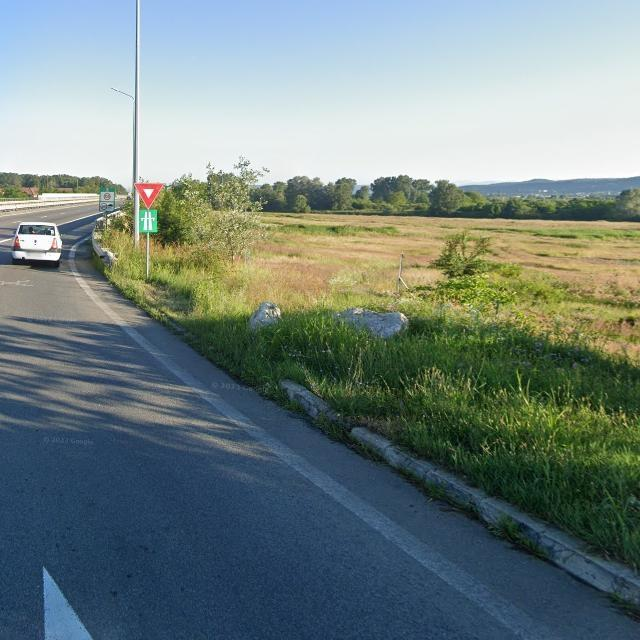prio_give_way: (134, 183, 165, 211)
